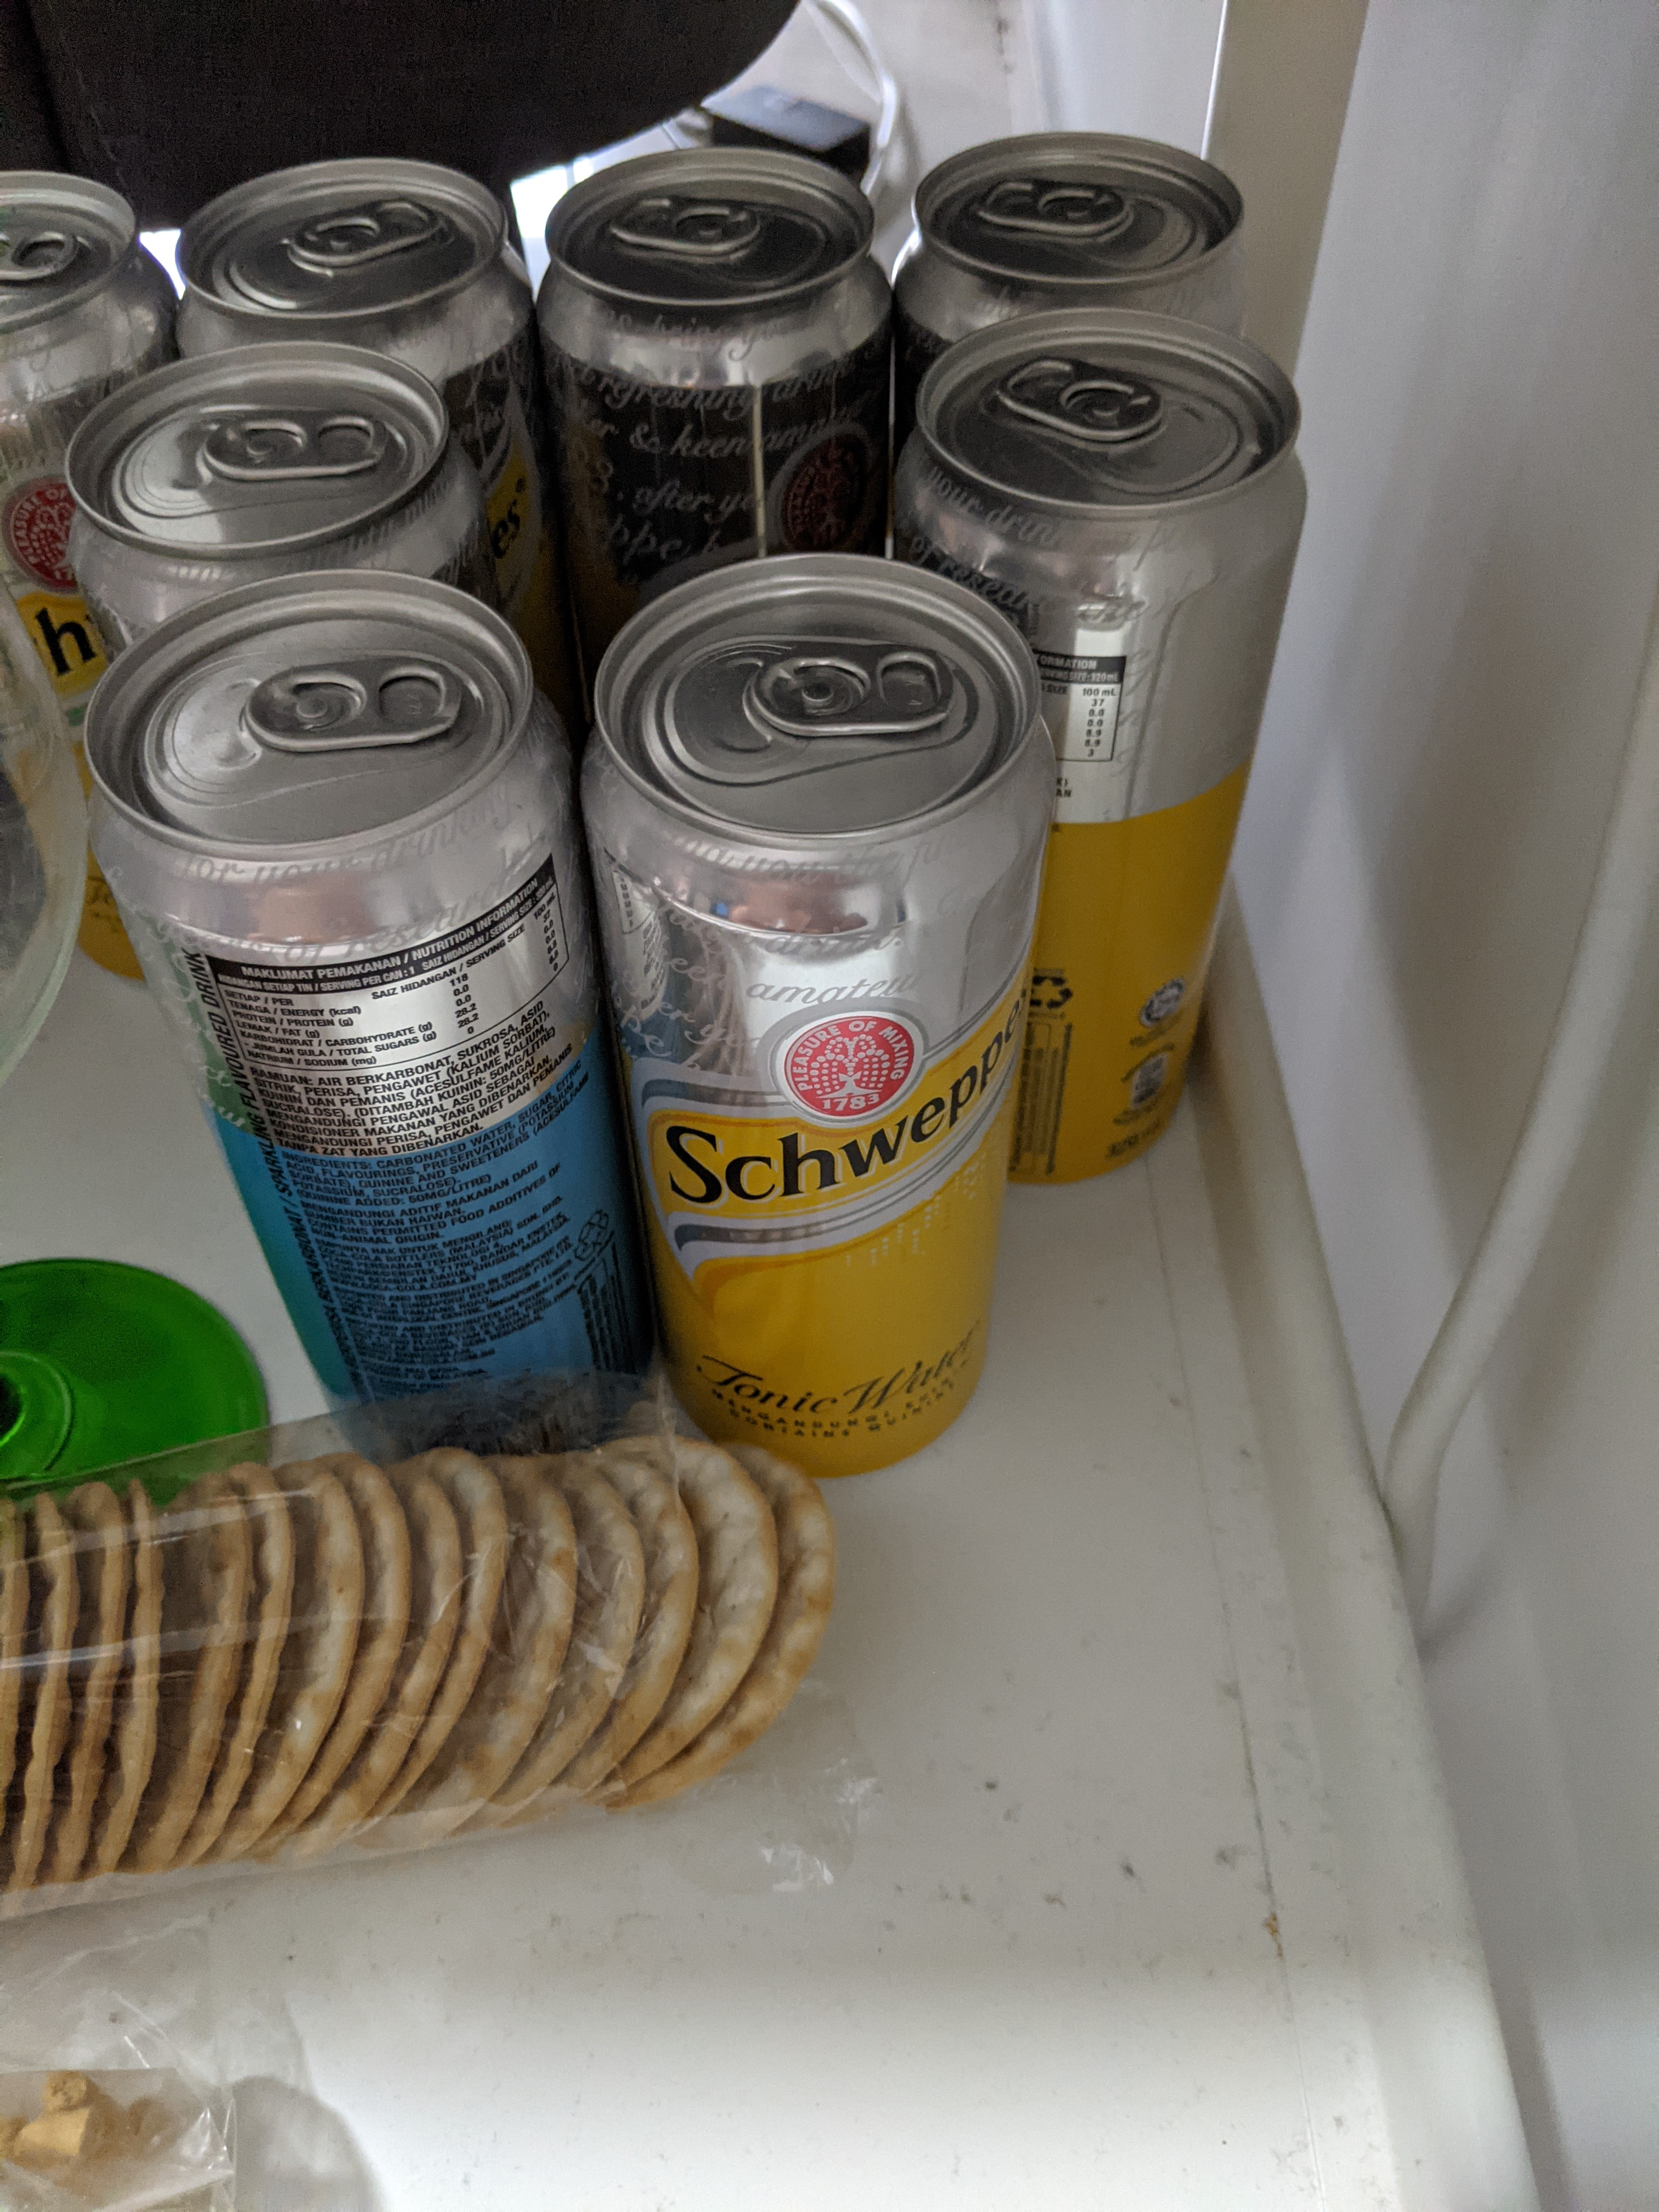schweppes drink can tonic water: (566, 535, 1072, 1501)
